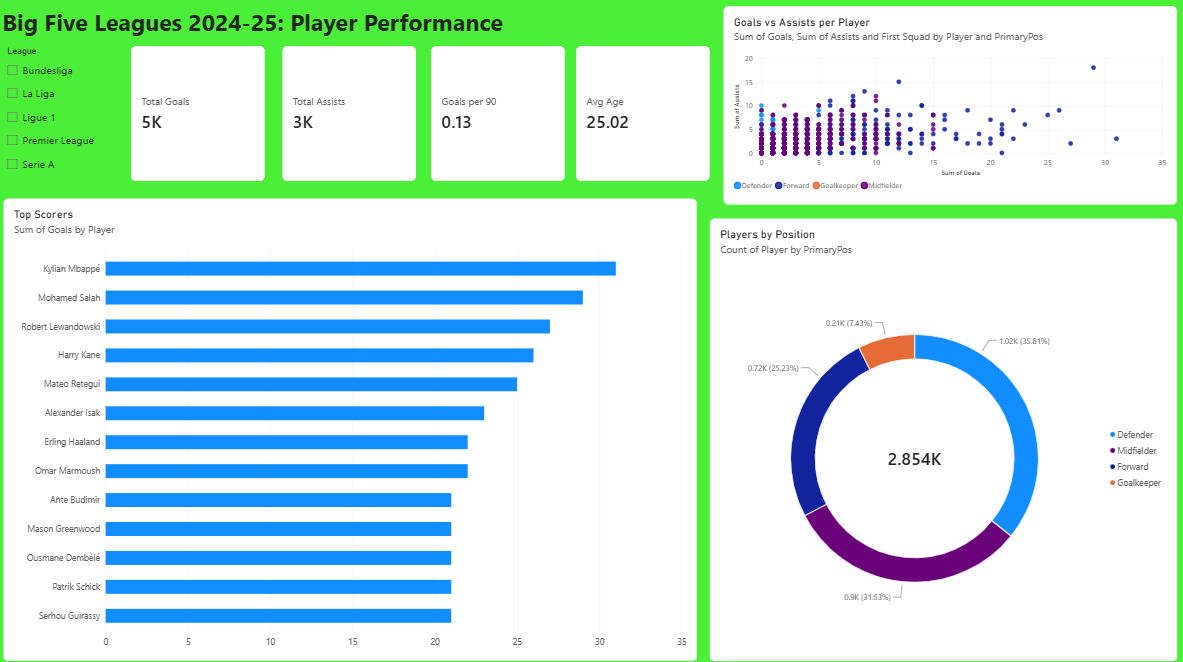

The page's visual inventory and layout, read from the dashboard file:
{"tool":"powerbi","page":{"name":"Page 1","canvas":[1920,1080],"ordinal":0},"visuals":[{"type":"cardVisual","fields":{"Data":["players_clean.Total Goals"]},"box":[217.9,80.7,216.1,218.2],"z":0},{"type":"cardVisual","fields":{"Data":["players_clean.Total Assists"]},"box":[461.9,80.7,216.1,218.2],"z":1000},{"type":"cardVisual","fields":{"Data":["players_clean.Goals per 90"]},"box":[702,80.7,216.1,218.2],"z":2000},{"type":"cardVisual","fields":{"Data":["players_clean.Avg Age"]},"box":[936,80.7,216.1,218.2],"z":3000},{"type":"clusteredBarChart","title":"Top Scorers","fields":{"Category":["players_clean.Player"],"Y":["Sum(players_clean.Goals)"]},"box":[12.1,326.8,1119.6,748.4],"z":4000},{"type":"donutChart","title":"Players by Position","fields":{"Category":["players_clean.PrimaryPos"],"Y":["CountNonNull(players_clean.Player)"]},"box":[1151.8,359.1,754.4,716.1],"z":5000},{"type":"scatterChart","title":"Goals vs Assists per Player","fields":{"Category":["players_clean.Player"],"Series":["players_clean.PrimaryPos"],"X":["Sum(players_clean.Goals)"],"Y":["Sum(players_clean.Assists)"]},"box":[1174,16.1,732.3,320.7],"z":6000},{"type":"slicer","fields":{"Values":["players_clean.League"]},"box":[10.1,80.7,415.6,246.1],"z":7000},{"type":"textbox","box":[10.1,16.1,851.3,98.8],"z":8000}]}

Visuals, with their boxes in screenshot pixels (x1, y1, x2, y2), scaled from the page's 1920x1080 canvas onto the 1183x662 screenshot:
cardVisual - players_clean.Total Goals: bbox=[134, 49, 267, 183]
cardVisual - players_clean.Total Assists: bbox=[285, 49, 418, 183]
cardVisual - players_clean.Goals per 90: bbox=[433, 49, 566, 183]
cardVisual - players_clean.Avg Age: bbox=[577, 49, 710, 183]
"Top Scorers" clusteredBarChart: bbox=[7, 200, 697, 659]
"Players by Position" donutChart: bbox=[710, 220, 1174, 659]
"Goals vs Assists per Player" scatterChart: bbox=[723, 10, 1175, 206]
slicer - players_clean.League: bbox=[6, 49, 262, 200]
textbox: bbox=[6, 10, 531, 70]
